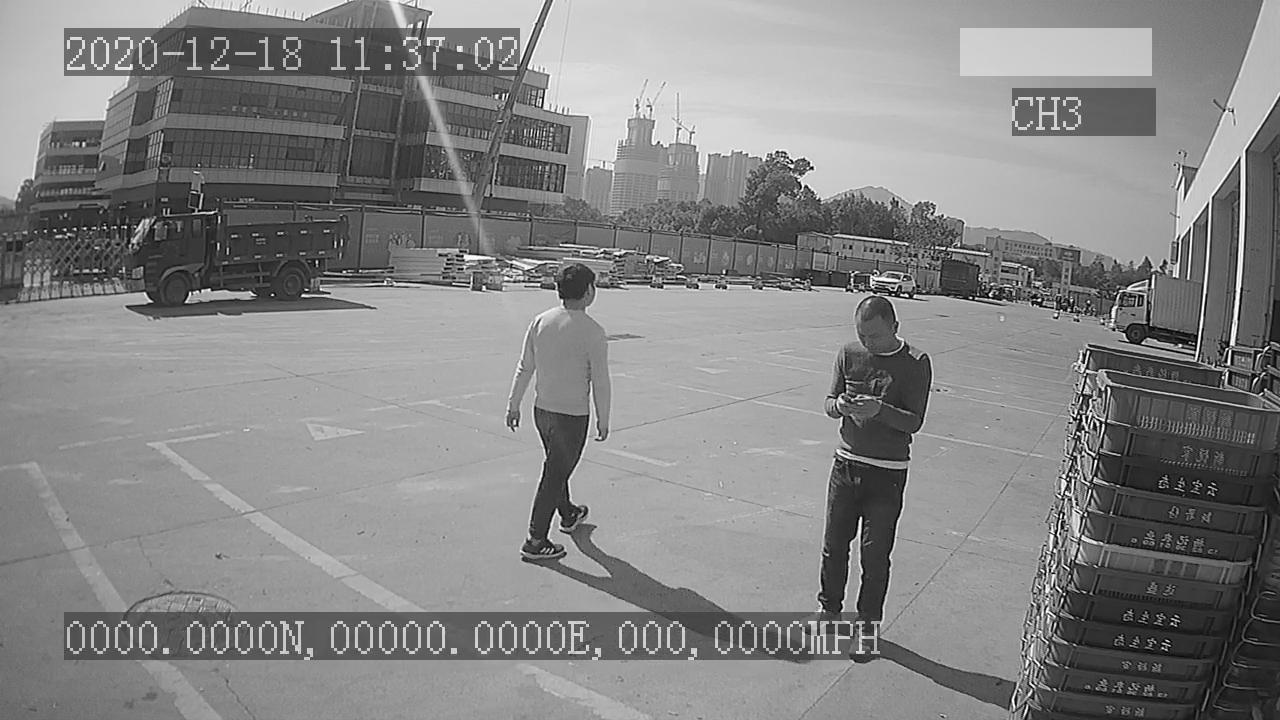person: (504, 256, 620, 560)
